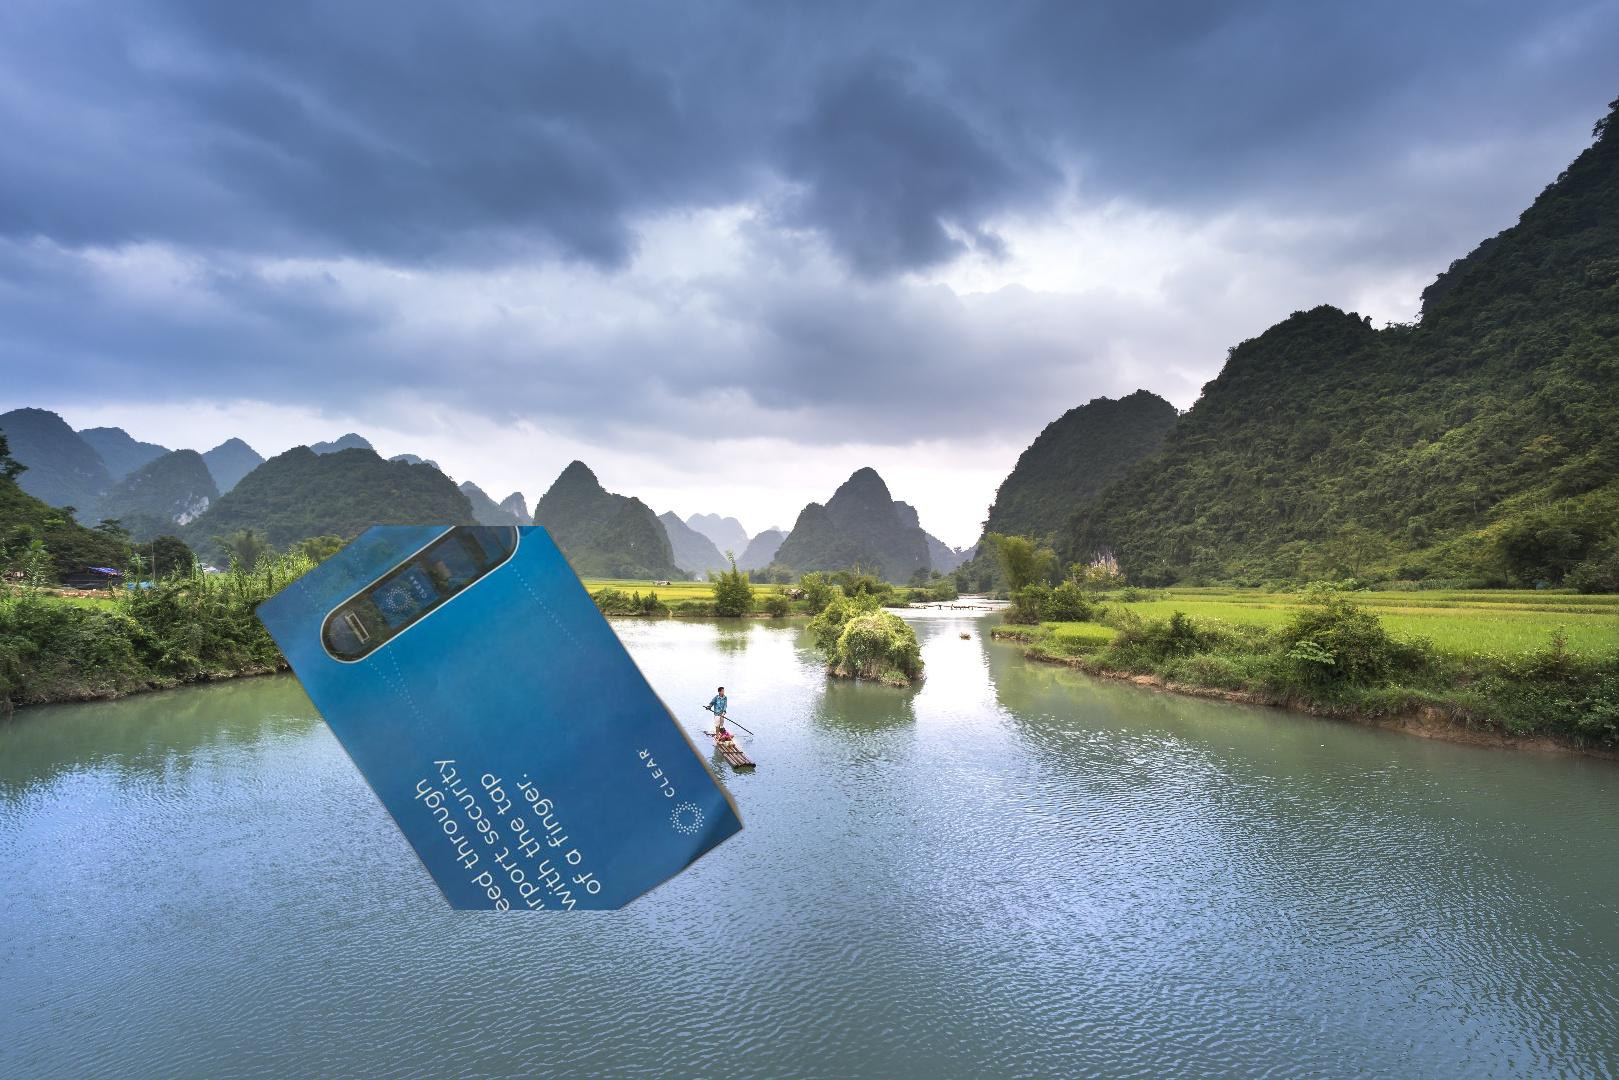paper: (233, 526, 745, 910)
